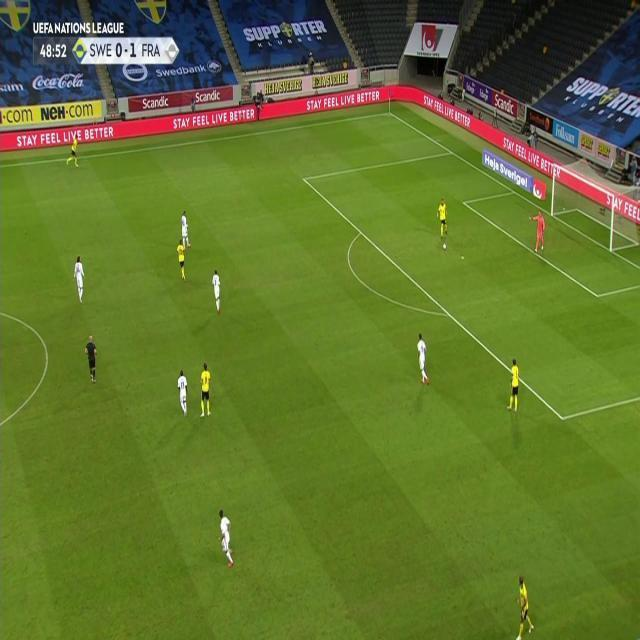ball: (442, 241, 448, 251)
goalkeeper: (531, 208, 547, 254)
player: (514, 574, 535, 639), (217, 508, 236, 568), (414, 332, 431, 386), (506, 357, 522, 413), (198, 361, 213, 419), (72, 254, 87, 304), (175, 368, 189, 416), (436, 197, 449, 240), (210, 268, 222, 314), (66, 132, 81, 168), (176, 237, 188, 282), (180, 209, 192, 249)
referee: (83, 333, 99, 385)
